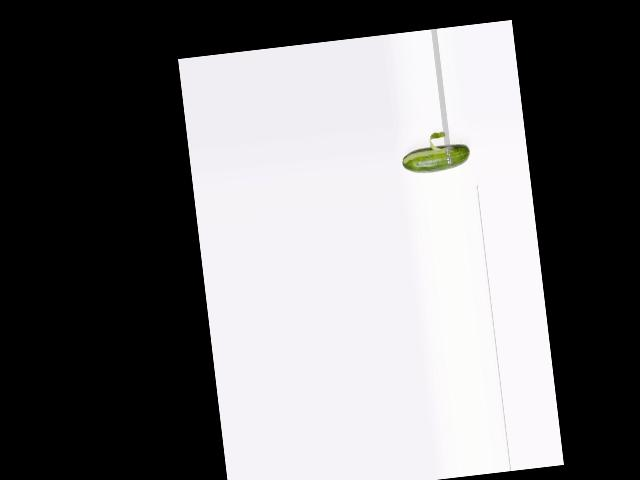cucumber: (400, 141, 472, 175)
